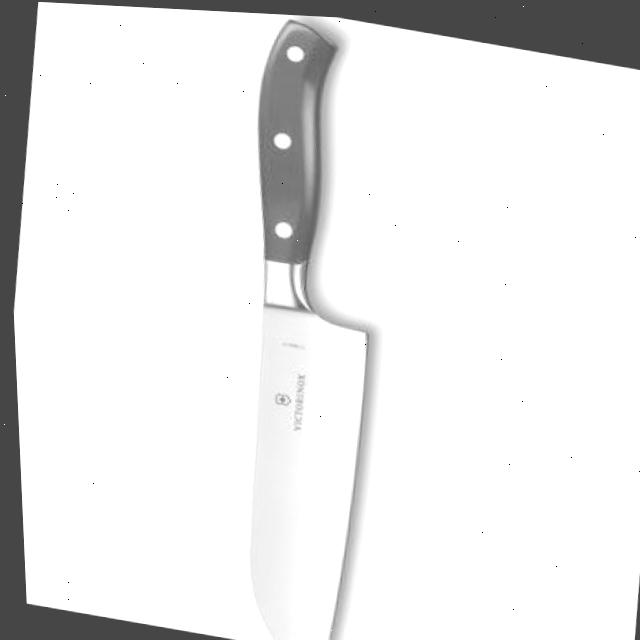knife: (181, 7, 415, 640)
